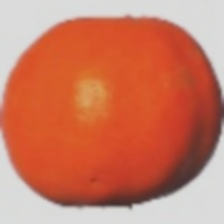tangerine: (24, 34, 219, 224)
